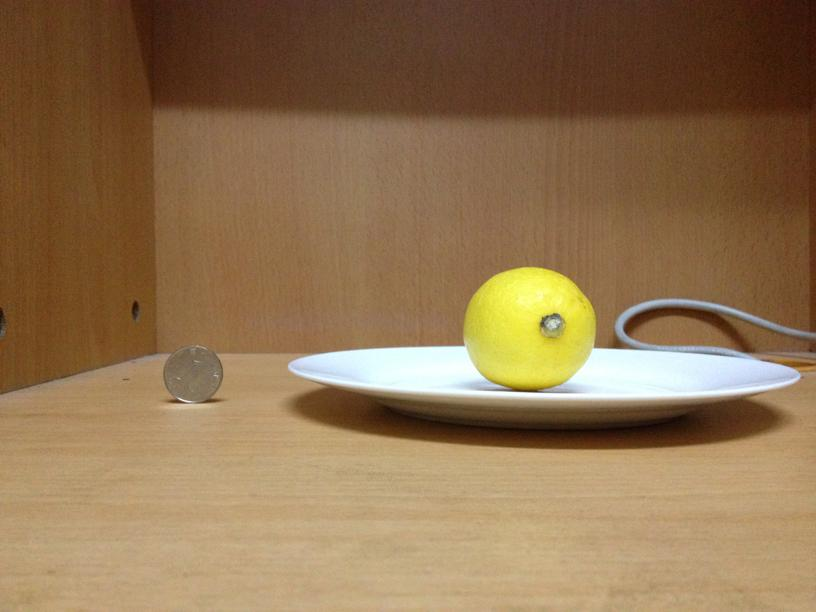coin: (163, 343, 223, 403)
lemon: (463, 265, 595, 387)
